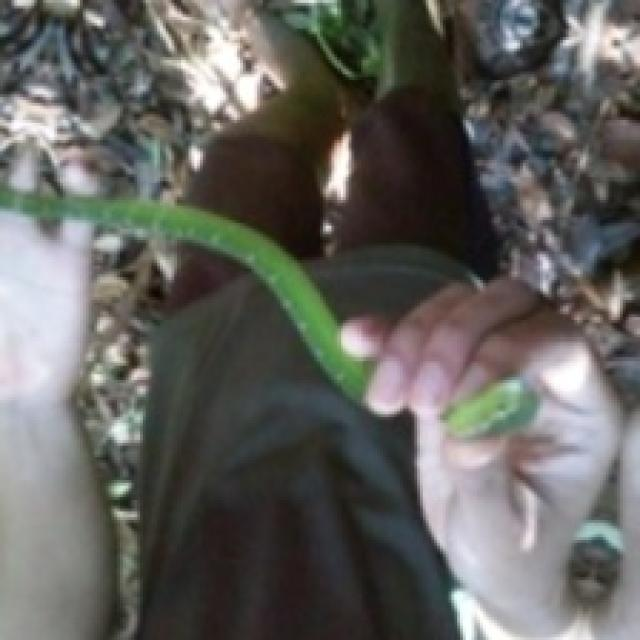north ph temple pitviper: (0, 188, 368, 402), (441, 375, 540, 438)
